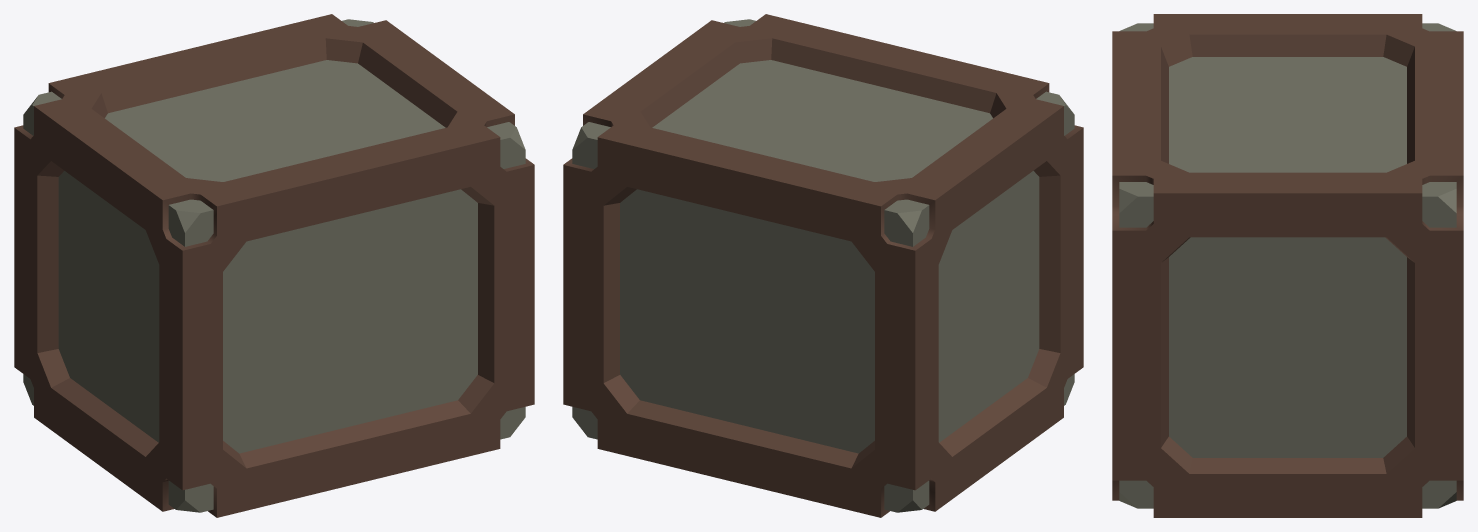
Rendered from LPSciFi_CrateA.fbx.
3 views of the same model, side by side, from view 1: azimuth 30°, elevation 25°; view 2: azimuth 150°, elevation 25°; view 3: azimuth 270°, elevation 25° (orthographic). The views are drawn at different scales.
Visible parts, largest first — view 1: CrateA; view 2: CrateA; view 3: CrateA.
Boxes of the visible parts, bbox=[...] form: CrateA: bbox=[14, 14, 534, 517]; CrateA: bbox=[563, 14, 1083, 517]; CrateA: bbox=[1112, 14, 1463, 517].
Bounding box in the file's own units: 104 × 88.03 × 86.27.
